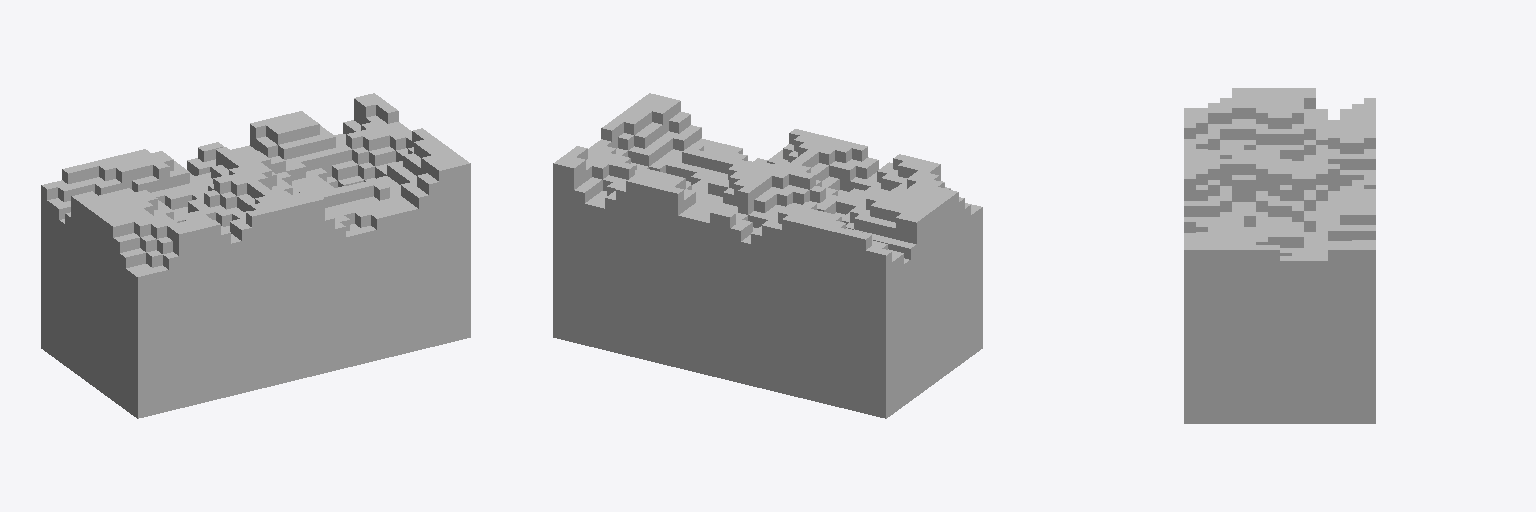
File: hill-dirt.obj
The picture shows the model from 3 angles: view 1: azimuth 30°, elevation 25°; view 2: azimuth 150°, elevation 25°; view 3: azimuth 270°, elevation 25°; orthographic projection.
Visible parts, largest first — view 1: Honors_World__30_181_-140_to_61_197_-125; view 2: Honors_World__30_181_-140_to_61_197_-125; view 3: Honors_World__30_181_-140_to_61_197_-125.
Part boxes in pixels (bbox=[...]): Honors_World__30_181_-140_to_61_197_-125: bbox=[41, 93, 470, 418]; Honors_World__30_181_-140_to_61_197_-125: bbox=[553, 93, 982, 418]; Honors_World__30_181_-140_to_61_197_-125: bbox=[1184, 88, 1375, 423].
Size of the model in its own units: 32 by 16 by 16.